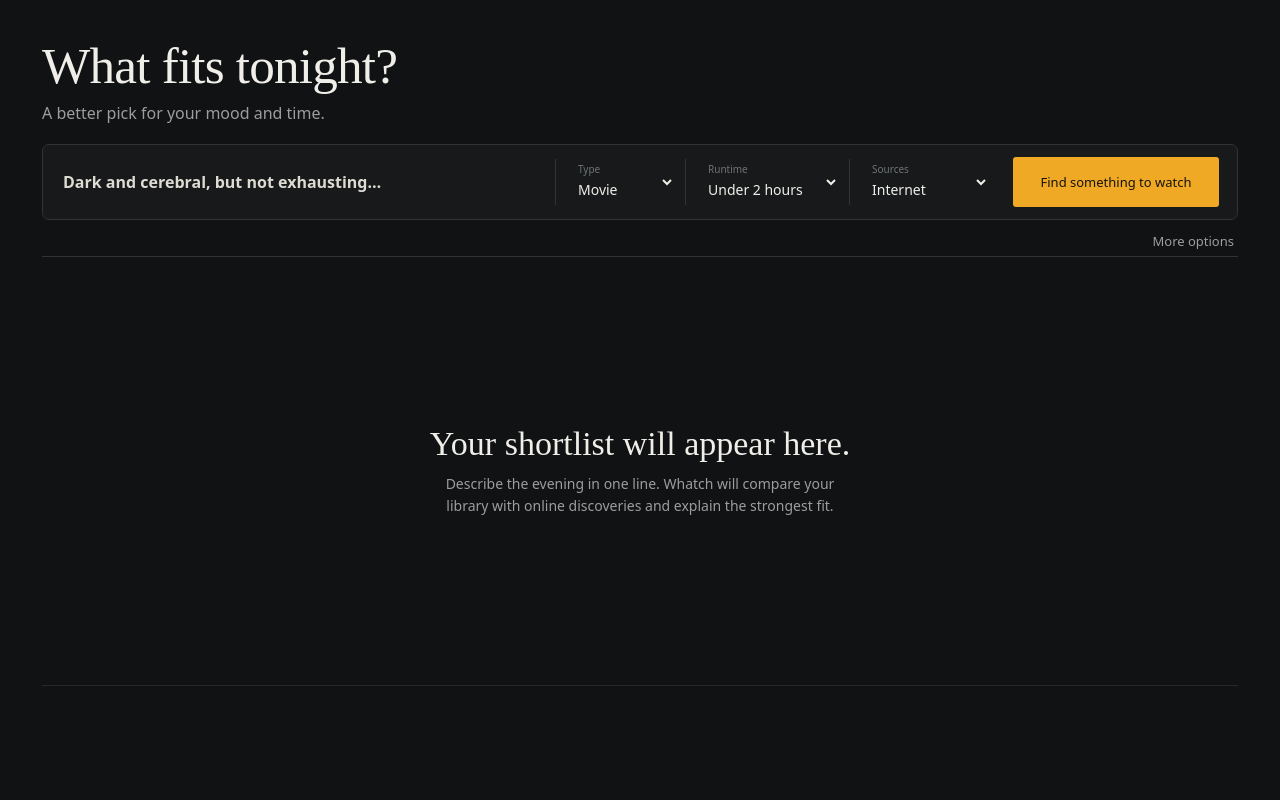
Scenario: TonightScreen load more › shows the release year beside each similarity seed
Click the button "More options" at (1193, 241), box [1152,228,1234,254]
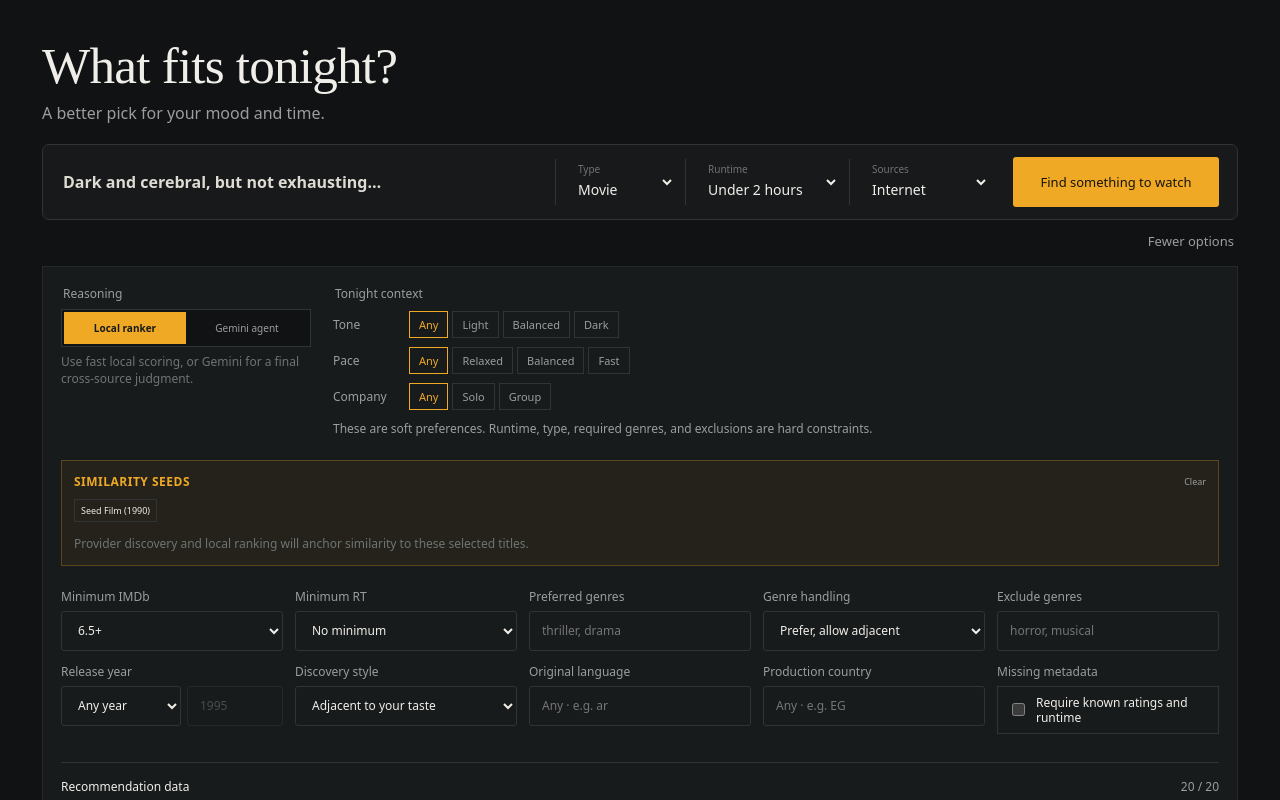
Expected: the list item "Seed Film (1990)" is shown, [74,499,157,522]
